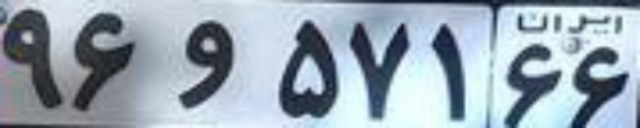1: (428, 22, 466, 121)
5: (277, 19, 337, 118)
6: (75, 11, 134, 110)
7: (348, 21, 408, 119), (505, 42, 562, 125), (573, 46, 628, 127)
9: (4, 7, 60, 109)
vav: (179, 18, 234, 111)
